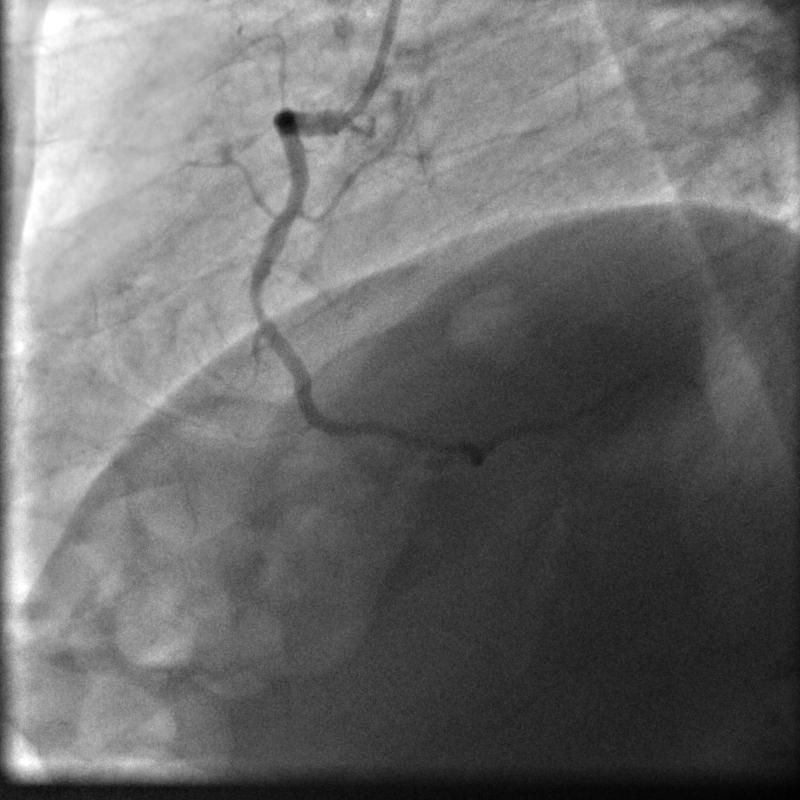Stenosis: (248, 290, 268, 316)
